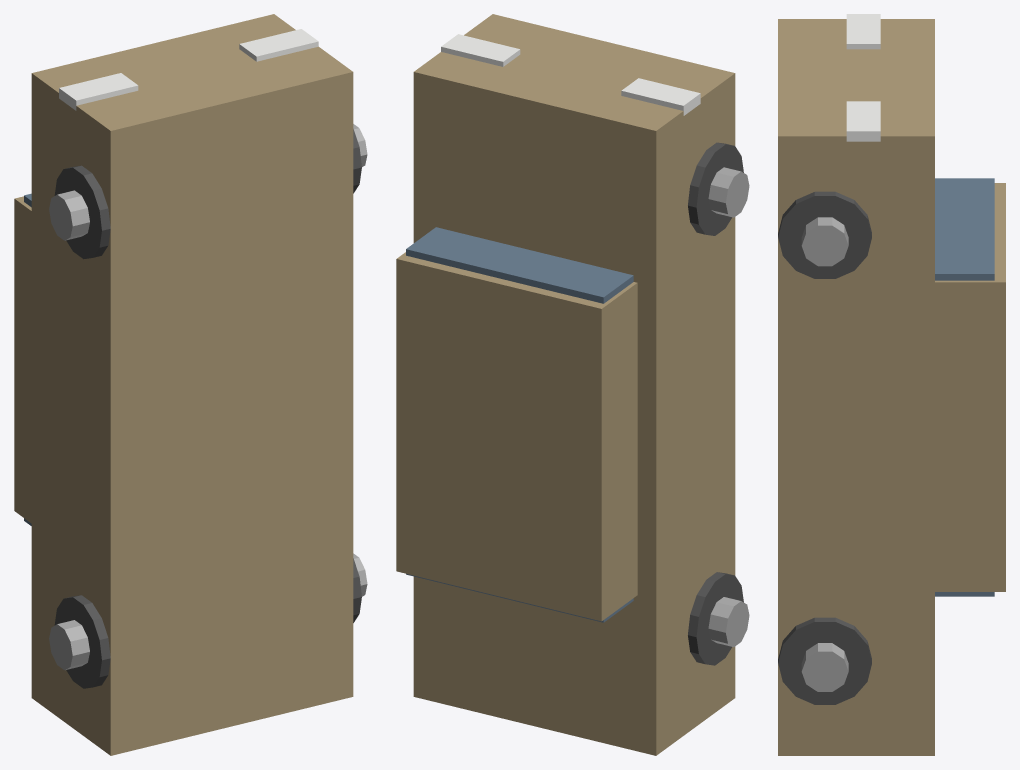
File: offroad_suv.glb
3 renders of one model, left to right at view 1: azimuth 30°, elevation 25°; view 2: azimuth 150°, elevation 25°; view 3: azimuth 270°, elevation 25°, orthographic.
Visible parts, largest first — view 1: body, cabin, wheel_-1_-1, wheel_-1_1, hub_-1_1, hub_-1_-1, headlamp_l, headlamp_r; view 2: body, cabin, glass_f, wheel_-1_1, wheel_-1_-1, hub_-1_1, hub_-1_-1, headlamp_l, headlamp_r; view 3: body, cabin, glass_f, wheel_1_1, wheel_1_-1, hub_1_1, hub_1_-1, headlamp_r, headlamp_l.
Boxes of the visible parts, x1,y1,x2,y2 form: body: (31, 14, 353, 755); cabin: (14, 196, 31, 523); wheel_-1_-1: (54, 595, 110, 688); wheel_-1_1: (54, 165, 110, 259); hub_-1_1: (49, 190, 89, 240); hub_-1_-1: (49, 620, 89, 670); headlamp_l: (59, 73, 138, 110); headlamp_r: (239, 29, 318, 61); body: (413, 14, 735, 755); cabin: (396, 252, 637, 621); glass_f: (406, 227, 633, 303); wheel_-1_1: (688, 142, 743, 235); wheel_-1_-1: (688, 572, 743, 665); hub_-1_1: (708, 167, 749, 217); hub_-1_-1: (708, 597, 749, 647); headlamp_l: (621, 78, 700, 115); headlamp_r: (441, 34, 520, 66); body: (778, 19, 934, 755); cabin: (935, 183, 1005, 591); glass_f: (935, 178, 994, 280); wheel_1_1: (778, 191, 871, 278); wheel_1_-1: (778, 617, 871, 704); hub_1_1: (801, 217, 848, 266); hub_1_-1: (801, 643, 848, 691); headlamp_r: (846, 101, 880, 141); headlamp_l: (846, 14, 880, 49).
Size of the model in its own units: 2.37 by 4.88 by 1.6.
